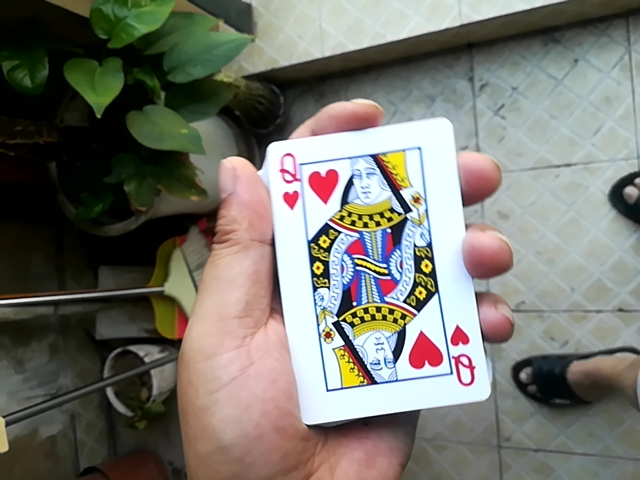hx q: (264, 107, 499, 423)
